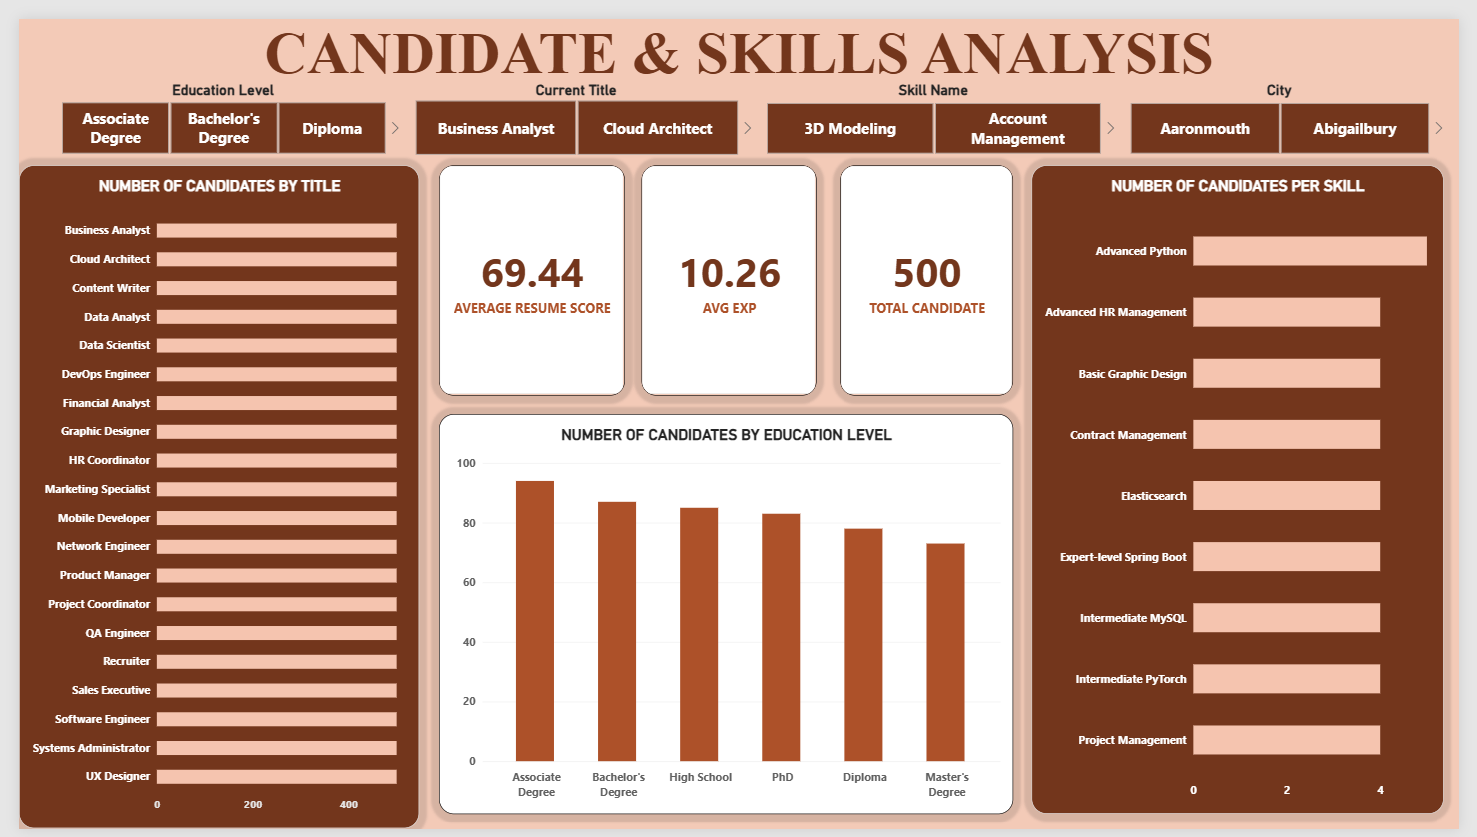

The dashboard page shown, as its layout file describes it:
{"tool":"powerbi","page":{"name":"CANDIDATE & SKILLS ANALYSYS","canvas":[1920,1080],"ordinal":4},"visuals":[{"type":"cardVisual","fields":{"Data":["Applications.TOTAL CANDIDATE"]},"box":[1095.4,195.3,230.2,307],"z":0},{"type":"textbox","title":"CANDIDATE & SKILLS ANALYSIS","box":[0,0,1920,96],"z":1000},{"type":"cardVisual","fields":{"Data":["Candidates.AVG EXP"]},"box":[830.2,195.3,233.7,307],"z":2000},{"type":"cardVisual","fields":{"Data":["Candidates.AVERAGE RESUME SCORE"]},"box":[559.9,195.3,247.7,307],"z":3000},{"type":"clusteredColumnChart","title":"NUMBER OF CANDIDATES BY EDUCATION LEVEL","fields":{"Category":["Candidates.EducationLevel"],"Y":["CountNonNull(Candidates.CandidateID)"]},"box":[559.9,526.7,765.7,533.7],"z":4000},{"type":"clusteredBarChart","title":"NUMBER OF CANDIDATES BY TITLE","fields":{"Category":["Jobs.Title"],"Y":["CountNonNull(Candidates.CandidateID)"]},"box":[0,195.3,533.7,884.3],"z":5000},{"type":"barChart","title":"NUMBER OF CANDIDATES PER SKILL","fields":{"Category":["Skills.SkillName"],"Y":["CountNonNull(CandidateSkills.CandidateSkillID)"]},"box":[1350,195.3,549.4,865.1],"z":6000},{"type":"slicer","title":"Education Level","fields":{"Values":["Candidates.EducationLevel"]},"box":[36.6,83.7,470.9,97.7],"z":7000},{"type":"slicer","title":"Current Title","fields":{"Values":["Candidates.CurrentTitle"]},"box":[507.6,83.7,469.2,99.4],"z":8000},{"type":"slicer","title":"Skill Name","fields":{"Values":["Skills.SkillName"]},"box":[976.7,83.7,484.9,97.7],"z":9000},{"type":"slicer","title":"City","fields":{"Values":["Candidates.City"]},"box":[1461.6,83.7,437.8,97.7],"z":10000}]}

Visuals, with their boxes in screenshot pixels (x1, y1, x2, y2), scaled from the page's 1920x1080 canvas onto the 1477x837 screenshot:
cardVisual - Applications.TOTAL CANDIDATE: region(843, 151, 1020, 389)
"CANDIDATE & SKILLS ANALYSIS" textbox: region(0, 0, 1476, 74)
cardVisual - Candidates.AVG EXP: region(639, 151, 818, 389)
cardVisual - Candidates.AVERAGE RESUME SCORE: region(431, 151, 621, 389)
"NUMBER OF CANDIDATES BY EDUCATION LEVEL" clusteredColumnChart: region(431, 408, 1020, 822)
"NUMBER OF CANDIDATES BY TITLE" clusteredBarChart: region(0, 151, 411, 836)
"NUMBER OF CANDIDATES PER SKILL" barChart: region(1039, 151, 1461, 822)
"Education Level" slicer: region(28, 65, 390, 141)
"Current Title" slicer: region(390, 65, 751, 142)
"Skill Name" slicer: region(751, 65, 1124, 141)
"City" slicer: region(1124, 65, 1461, 141)
